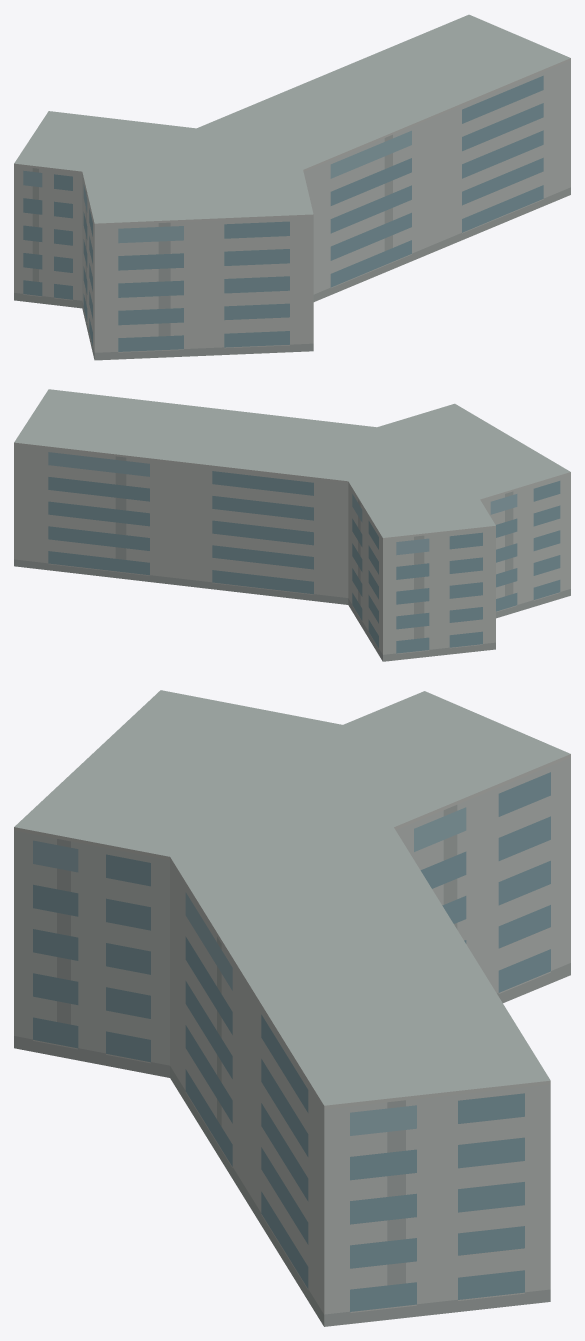
The model's file is residential-c9b87c1b-61e1-45df-939f-9f4aa34fd4f2.glb.
3 renders of one model, top to bottom at view 1: azimuth 30°, elevation 25°; view 2: azimuth 150°, elevation 25°; view 3: azimuth 270°, elevation 25°, orthographic. The views are drawn at different scales.
Visible parts, largest first — view 1: residential-c9b87c1b-61e1-45df-939f-9f4aa34fd4f2.tmp; view 2: residential-c9b87c1b-61e1-45df-939f-9f4aa34fd4f2.tmp; view 3: residential-c9b87c1b-61e1-45df-939f-9f4aa34fd4f2.tmp.
Boxes of the visible parts, x1,y1,x2,y2 form: residential-c9b87c1b-61e1-45df-939f-9f4aa34fd4f2.tmp: (14,14,570,360); residential-c9b87c1b-61e1-45df-939f-9f4aa34fd4f2.tmp: (14,389,570,661); residential-c9b87c1b-61e1-45df-939f-9f4aa34fd4f2.tmp: (14,690,570,1326).
Bounding box in the file's own units: 61.48 × 15.25 × 34.81.
